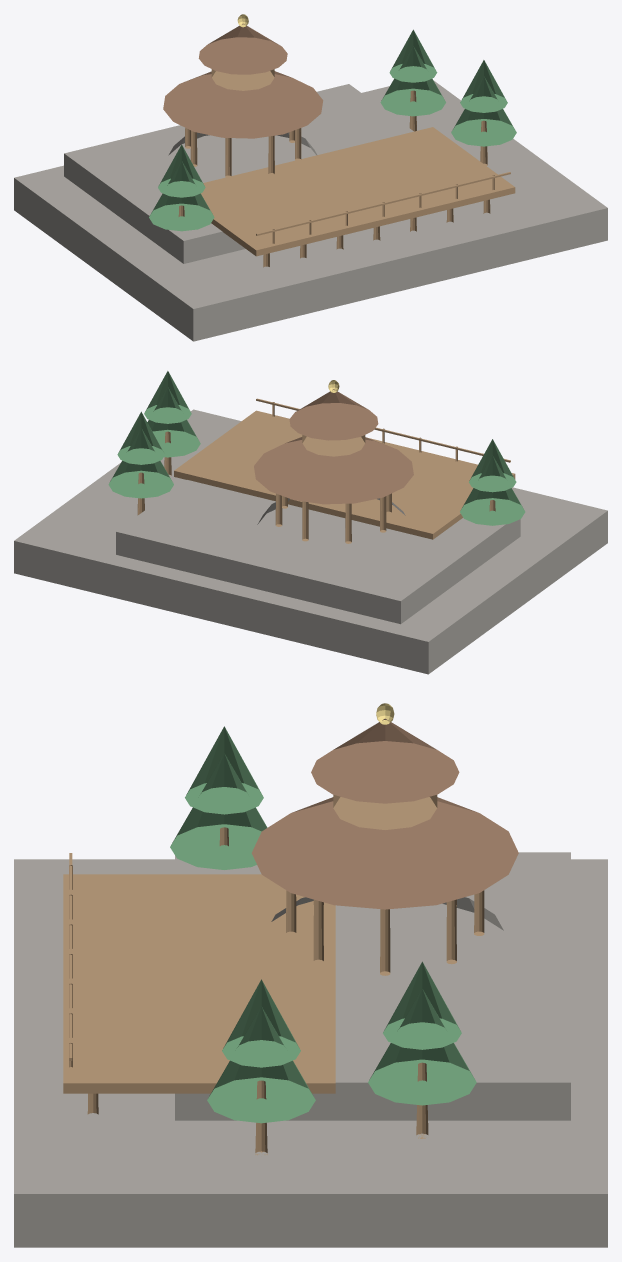
Rendered from lm_95_dai_vong_canh_dinh_pinhatt_hon_bo_cloud_hunting_pavilion.glb.
3 views of the same model, one above another, from view 1: azimuth 30°, elevation 25°; view 2: azimuth 150°, elevation 25°; view 3: azimuth 270°, elevation 25° (orthographic). The views are drawn at different scales.
Visible parts, largest first — view 1: lm_95_dai_vong_canh_dinh_pinhatt_hon_bo_cloud_hunting_pavili; view 2: lm_95_dai_vong_canh_dinh_pinhatt_hon_bo_cloud_hunting_pavili; view 3: lm_95_dai_vong_canh_dinh_pinhatt_hon_bo_cloud_hunting_pavili.
Part boxes in pixels (bbox=[...]): lm_95_dai_vong_canh_dinh_pinhatt_hon_bo_cloud_hunting_pavili: bbox=[14, 14, 607, 341]; lm_95_dai_vong_canh_dinh_pinhatt_hon_bo_cloud_hunting_pavili: bbox=[14, 371, 607, 674]; lm_95_dai_vong_canh_dinh_pinhatt_hon_bo_cloud_hunting_pavili: bbox=[14, 703, 607, 1247].
Size of the model in its own units: 32 by 15.15 by 24.
